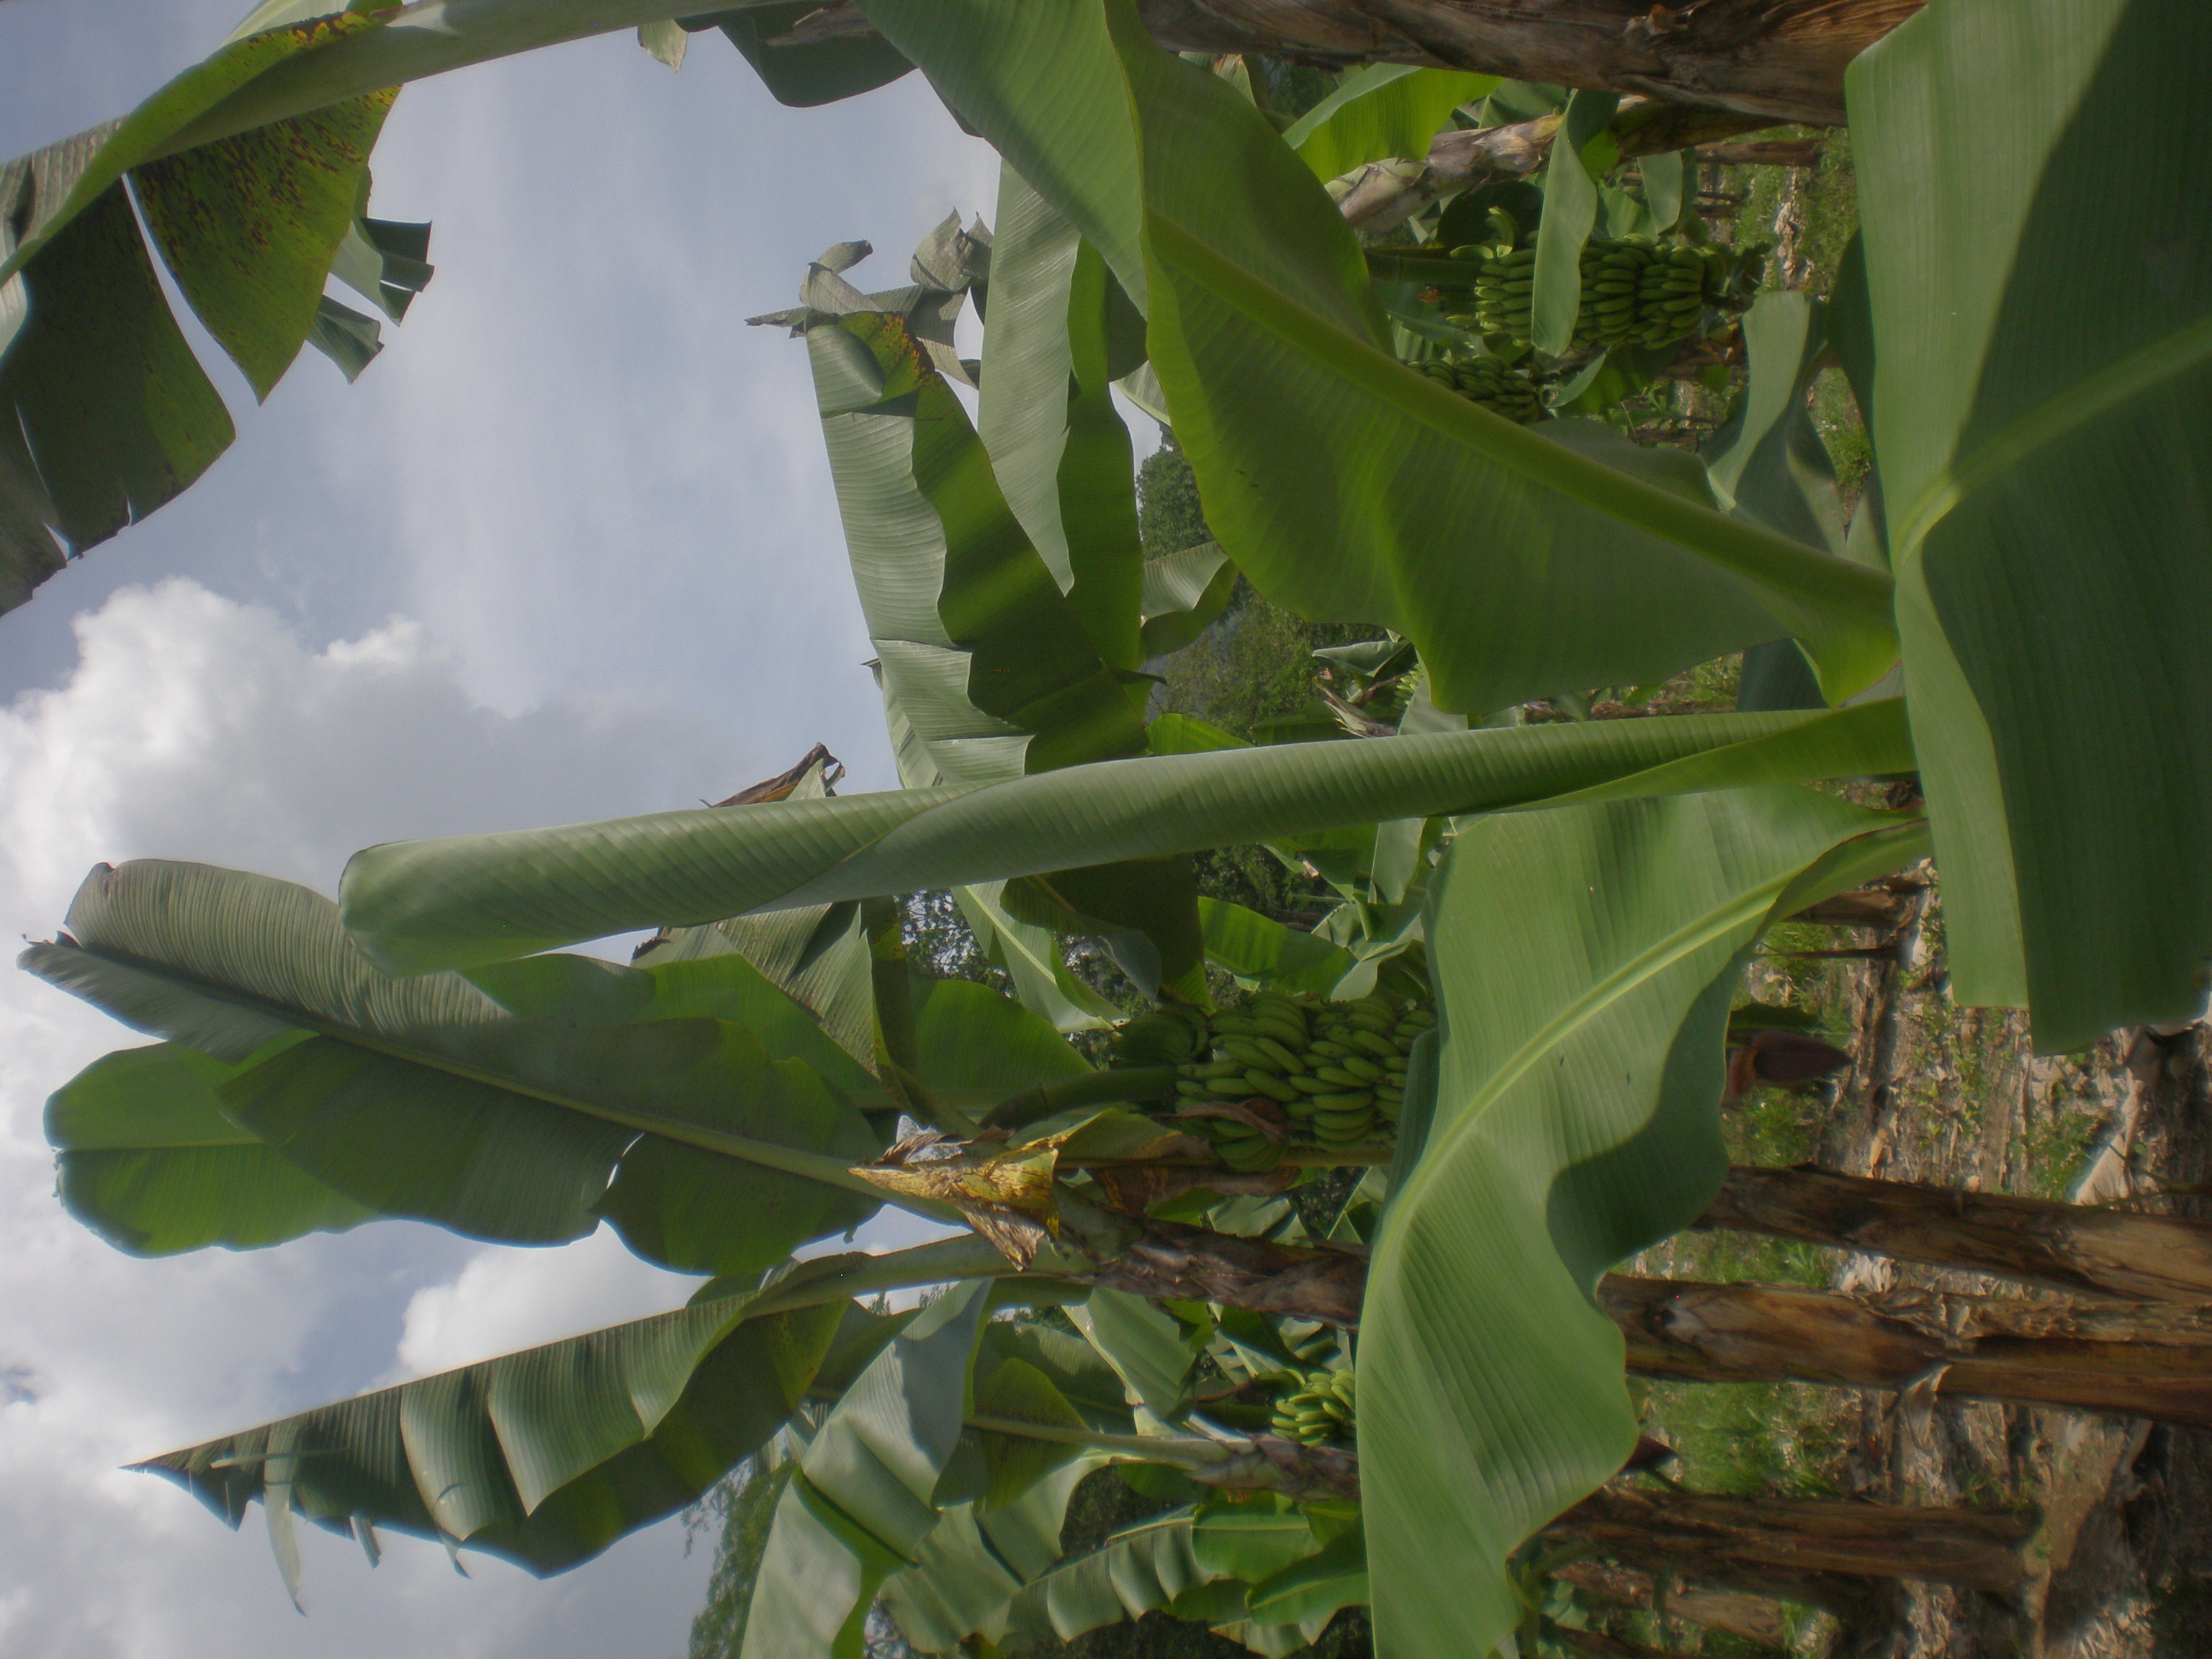candleleafs: (343, 692, 1885, 997)
